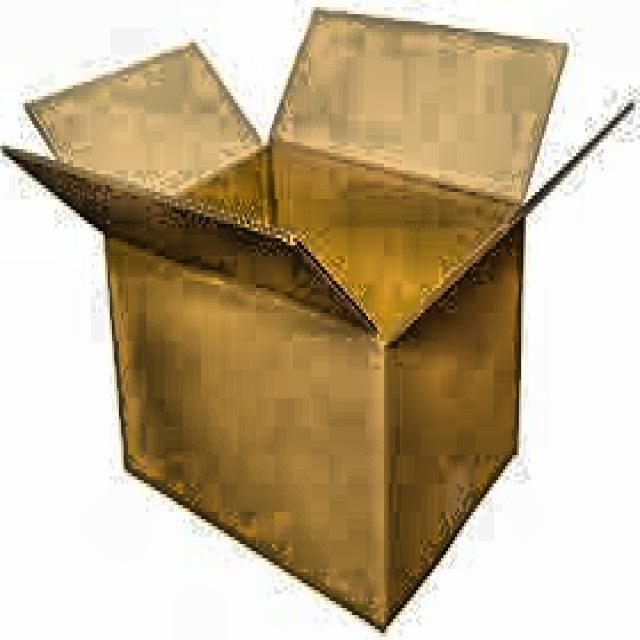cardboard: (2, 3, 631, 633)
